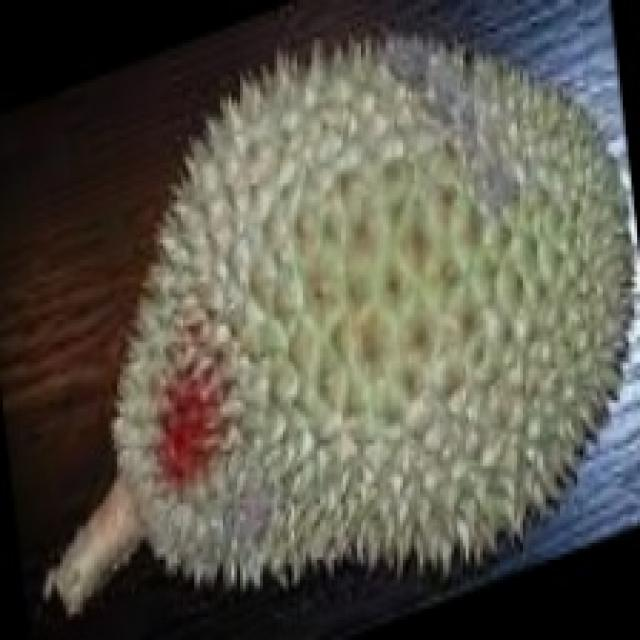d2: (33, 54, 617, 621)
